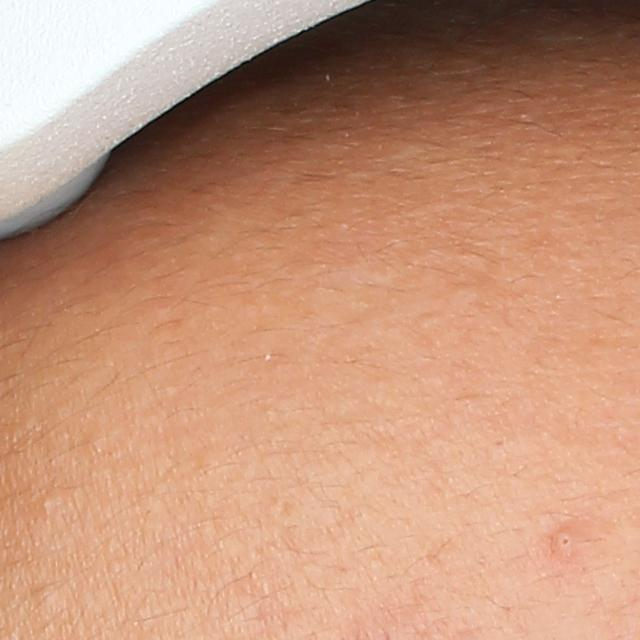comedo: (33, 581, 60, 613), (549, 524, 577, 553), (36, 491, 61, 515)
